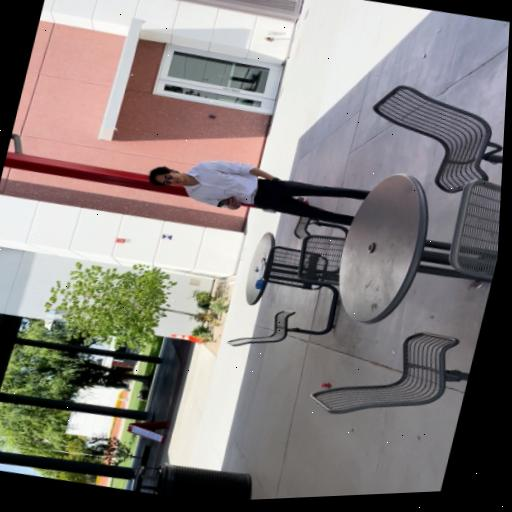target2: (161, 233, 173, 240)
